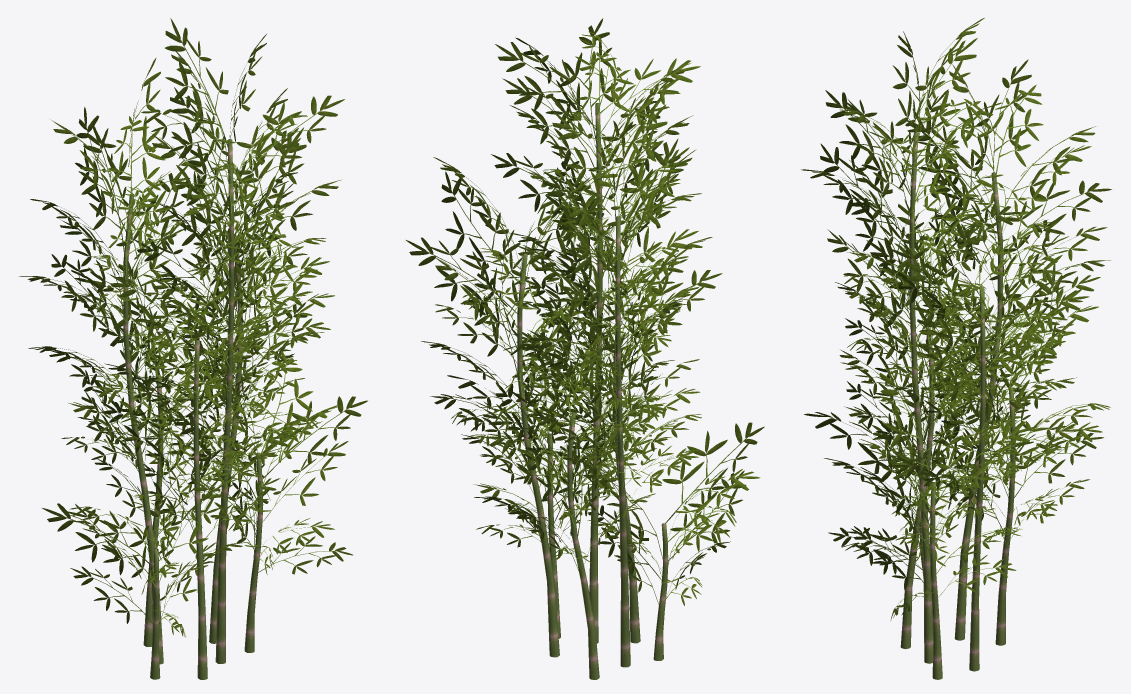
Rendered from bamboo.obj.
3 renders of one model, left to right at view 1: azimuth 30°, elevation 25°; view 2: azimuth 150°, elevation 25°; view 3: azimuth 270°, elevation 25°, orthographic.
Visible parts, largest first — view 1: bamboo branch, plant02; view 2: bamboo branch, plant02; view 3: bamboo branch, plant02.
Boxes of the visible parts, bbox=[...] form: bamboo branch: bbox=[19, 18, 367, 637]; plant02: bbox=[123, 139, 262, 679]; bamboo branch: bbox=[406, 18, 764, 605]; plant02: bbox=[517, 103, 668, 679]; bamboo branch: bbox=[801, 18, 1111, 620]; plant02: bbox=[900, 132, 1015, 679].
Size of the model in its own units: 249 by 480 by 219.
Materials: 2 (2 with a texture image).
